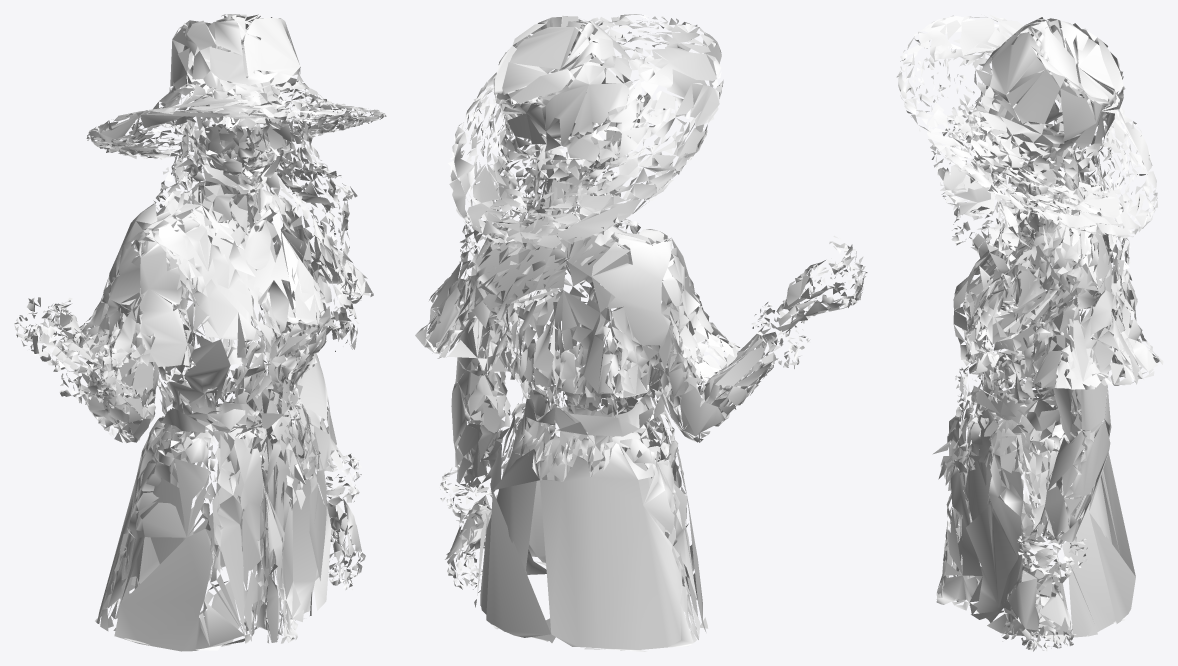
Rendered from beach-tourist-woman.glb.
3 views of the same model, side by side, from view 1: azimuth 30°, elevation 25°; view 2: azimuth 150°, elevation 25°; view 3: azimuth 270°, elevation 25° (orthographic). The views are drawn at different scales.
Parts seen in each view (by area): view 1: model; view 2: model; view 3: model.
Part boxes in pixels (x1=…): model: x1=14, y1=14, x2=386, y2=651; model: x1=415, y1=14, x2=867, y2=651; model: x1=896, y1=14, x2=1163, y2=651.
Bounding box in the file's own units: 1.32 × 1.9 × 0.7921.
Materials: 1 (1 with a texture image).
